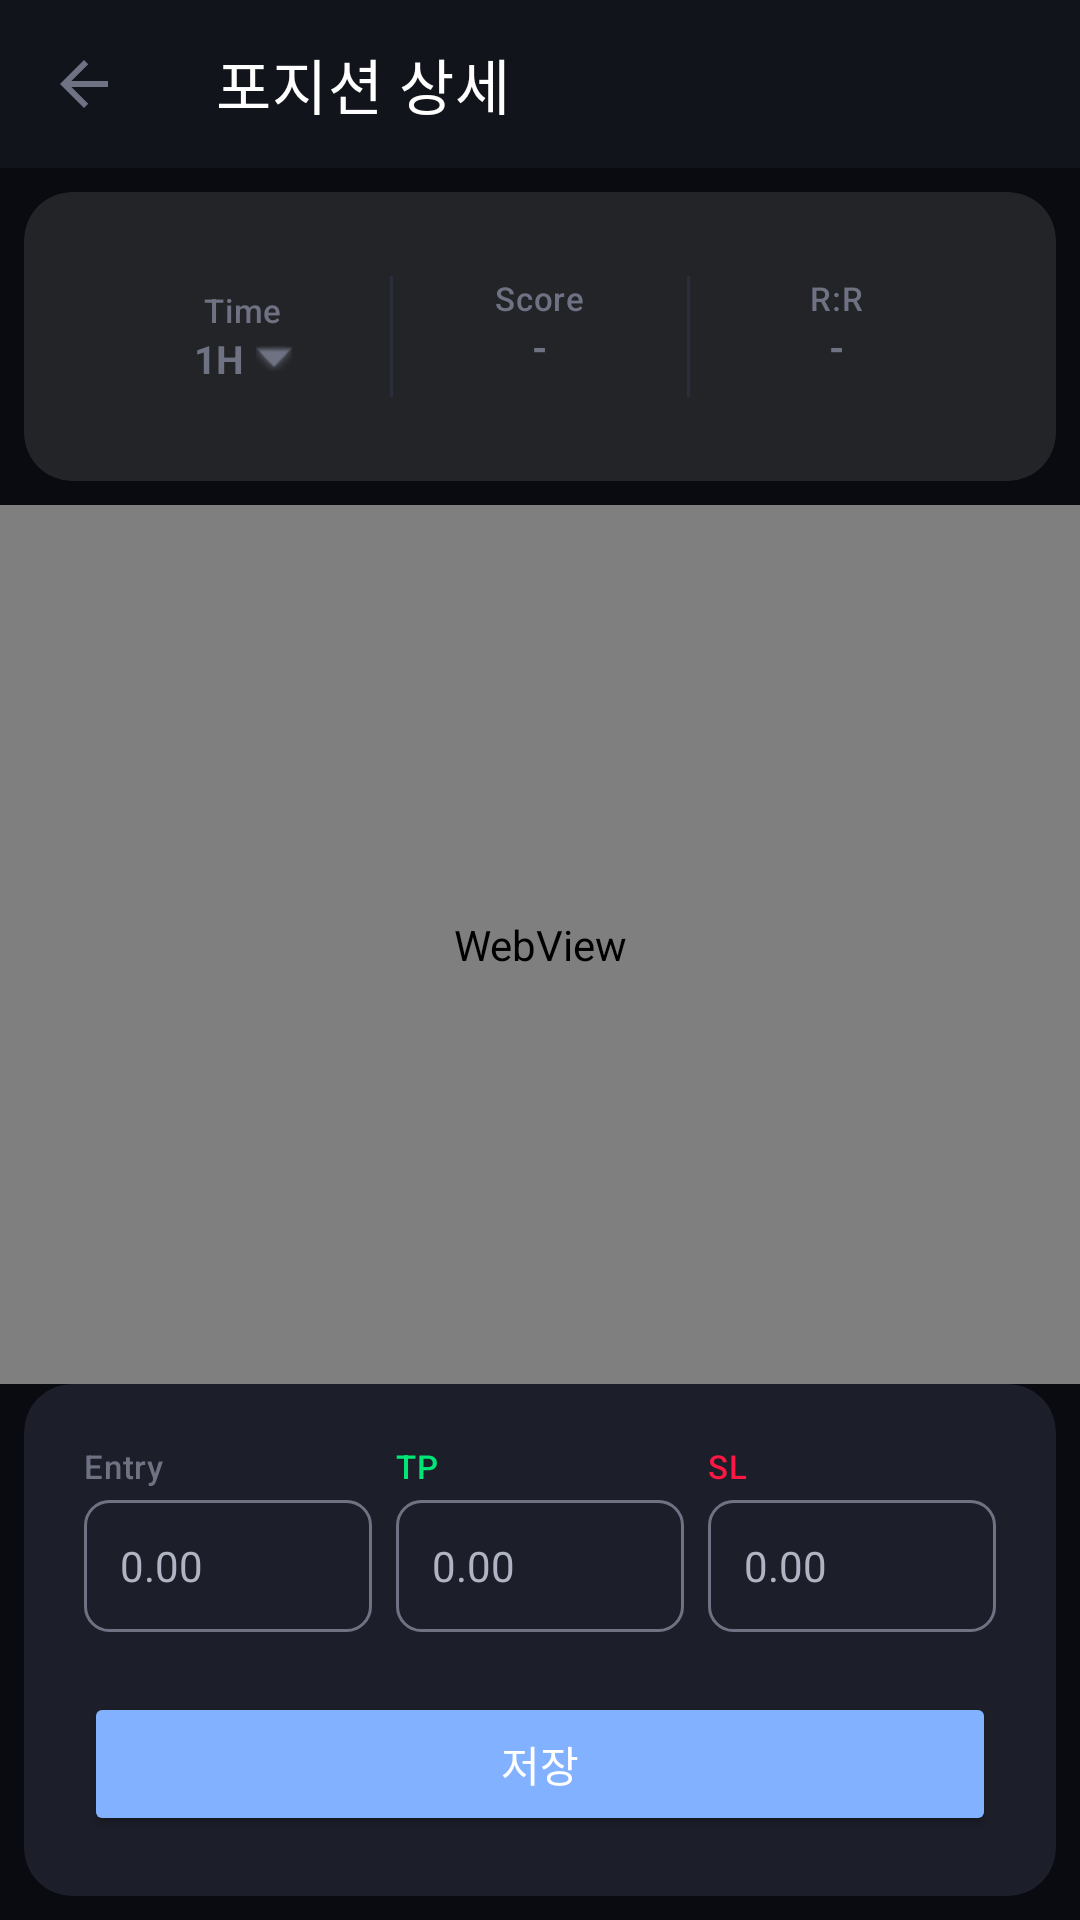

Icons on this 1080x1920 Android screen, each with the point to tap as (x=x, y=y):
arrow down float: (x=274, y=357)
